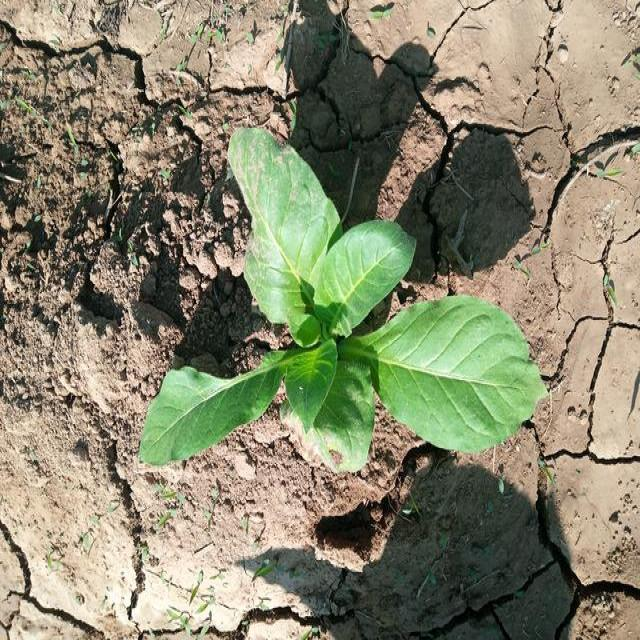crop: (140, 120, 550, 464)
